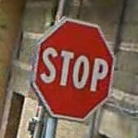stop: (33, 17, 115, 122)
